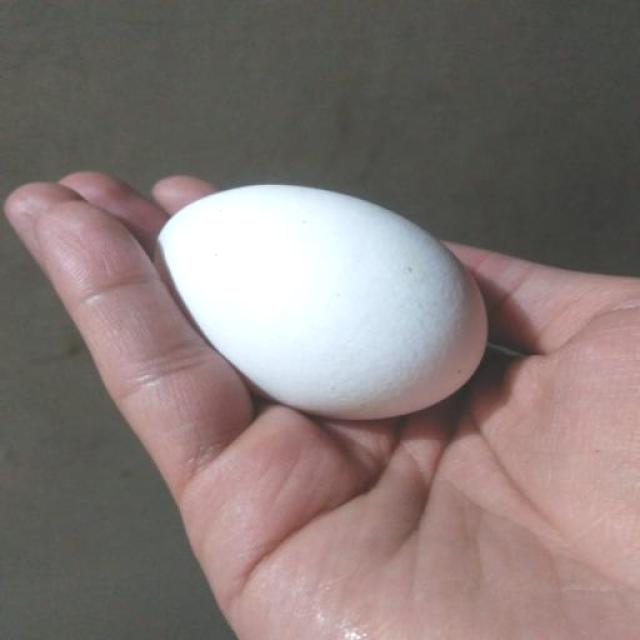telur: (161, 186, 486, 421)
